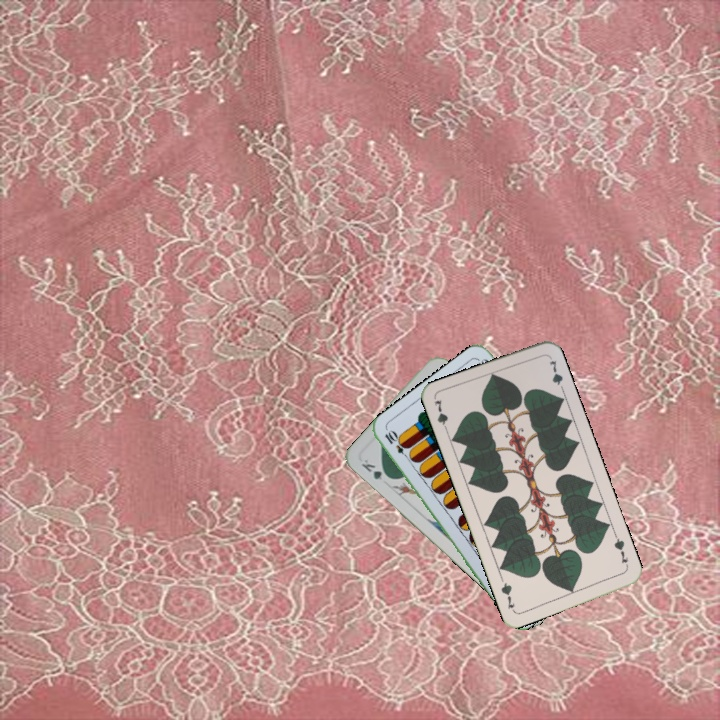E10: (381, 427, 413, 462)
G7: (430, 395, 451, 436), (610, 531, 631, 566)
GK: (357, 455, 394, 483)
